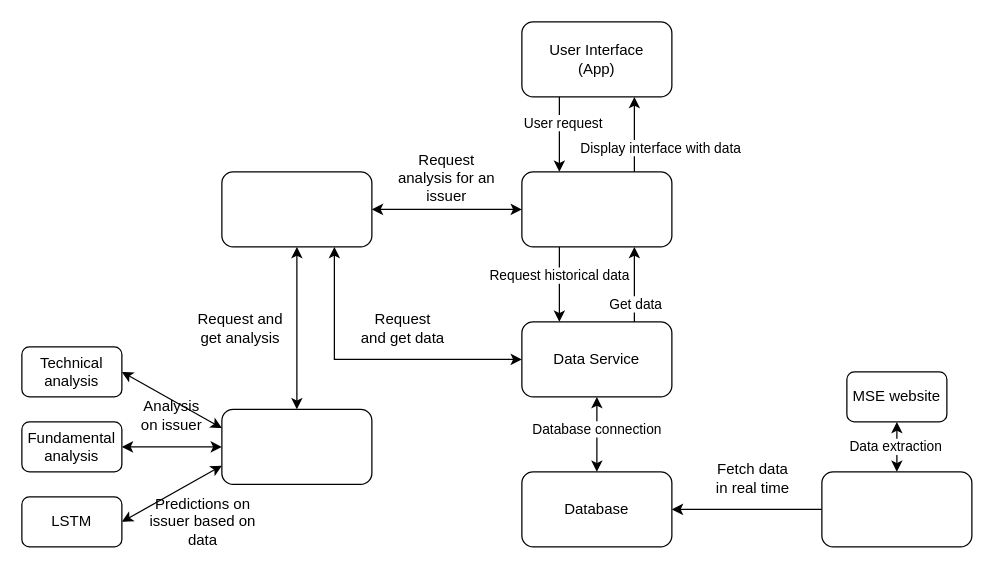
Image size: 994x570. Some labels were removed from this diagram. Here are the shapes that lost their labels. From the top down, the box of each, then its label:
(221, 171, 372, 247): Analysis Service
(521, 171, 672, 247): Bussiness Logic
(221, 408, 372, 484): Analysis Engine (Algorithms)
(821, 471, 972, 547): Scraping Service
